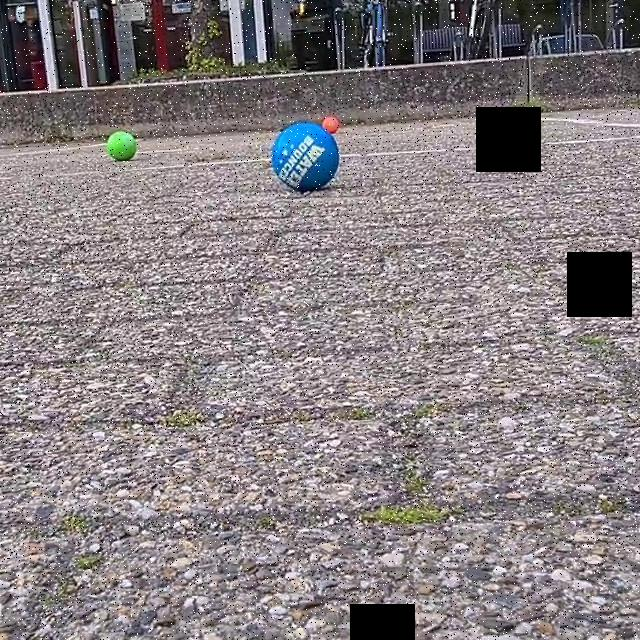ball: (106, 128, 138, 164), (319, 114, 344, 136)
